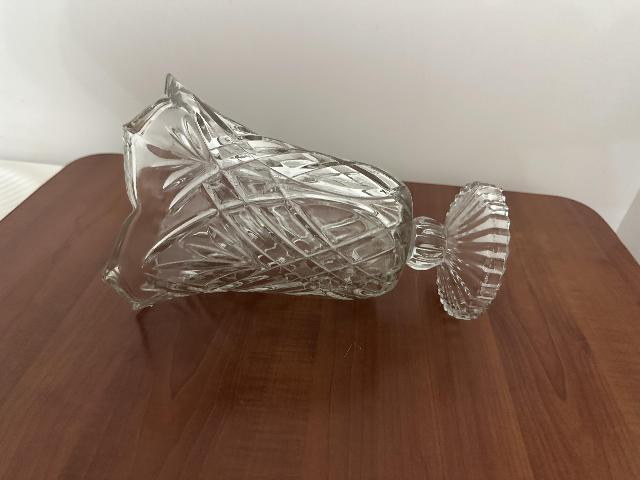Cam: (94, 71, 517, 335)
